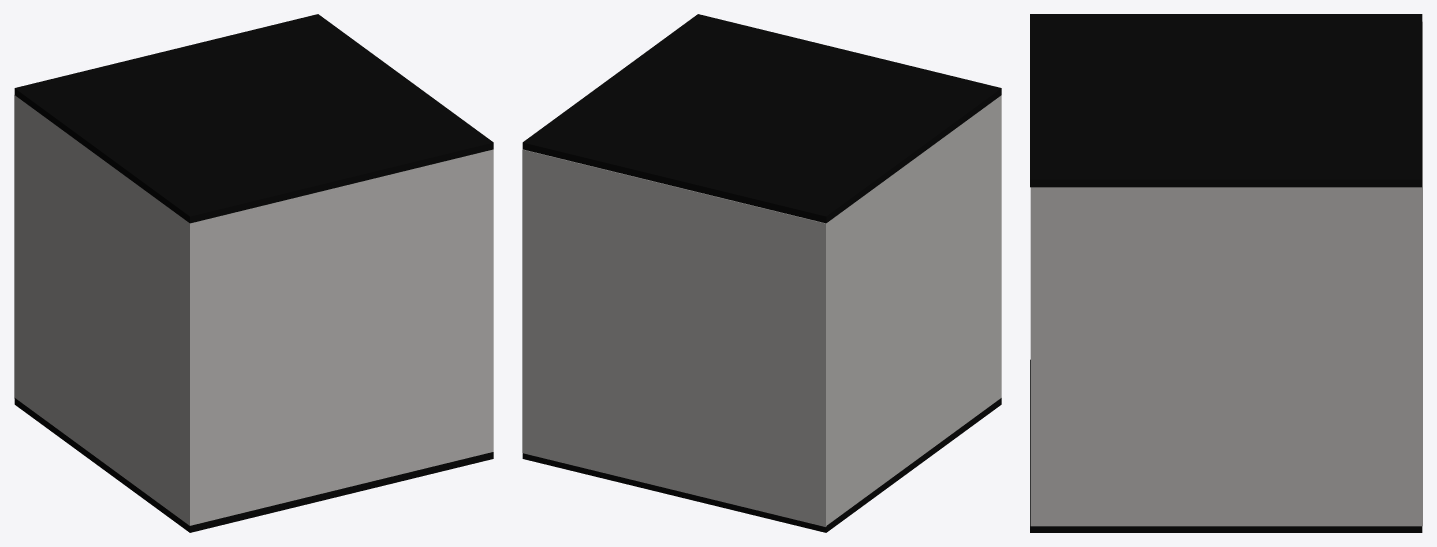
File: EsquineroNegro.fbx
3 renders of one model, left to right at view 1: azimuth 30°, elevation 25°; view 2: azimuth 150°, elevation 25°; view 3: azimuth 270°, elevation 25°, orthographic. The views are drawn at different scales.
Visible parts, largest first — view 1: Cube.079, Cube.081, Cube.082; view 2: Cube.079, Cube.081, Cube.082; view 3: Cube.079, Cube.081, Cube.082.
Part boxes in pixels (box(x1,y1,x2,y2)): Cube.079: box(14, 95, 493, 525); Cube.081: box(14, 14, 493, 223); Cube.082: box(14, 398, 493, 532); Cube.079: box(522, 95, 1001, 526); Cube.081: box(522, 14, 1001, 223); Cube.082: box(522, 398, 1001, 532); Cube.079: box(1030, 21, 1422, 526); Cube.081: box(1030, 14, 1422, 187); Cube.082: box(1030, 359, 1422, 532).
Size of the model in its own units: 73.3 by 72.96 by 73.48.
